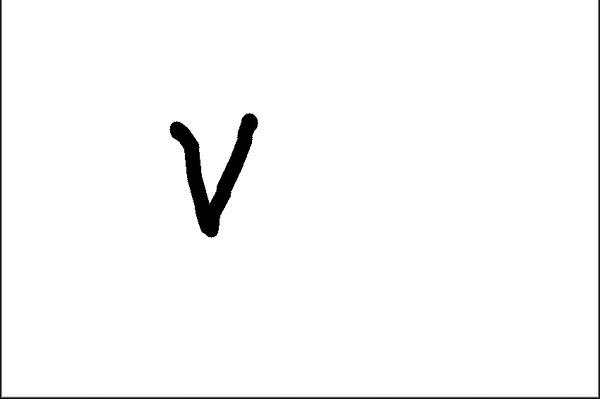V: (149, 108, 264, 251)
